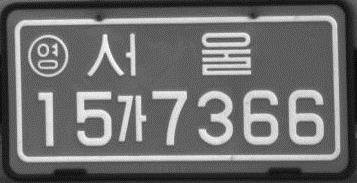1: (34, 88, 62, 150)
3: (194, 89, 236, 146)
5: (72, 89, 115, 147)
6: (242, 88, 280, 146), (287, 87, 325, 145)
7: (147, 88, 189, 148)
가: (114, 93, 149, 146)
서울_D: (86, 30, 254, 81)
영: (27, 34, 71, 80)
